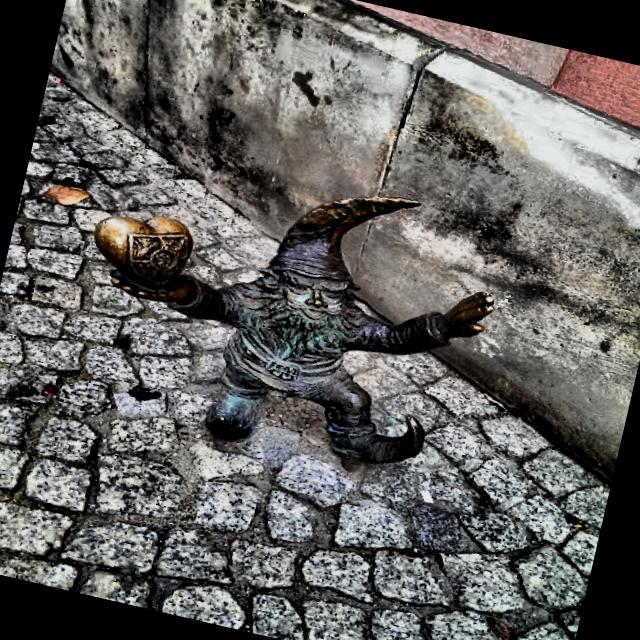WrocLovek: (57, 132, 512, 495)
